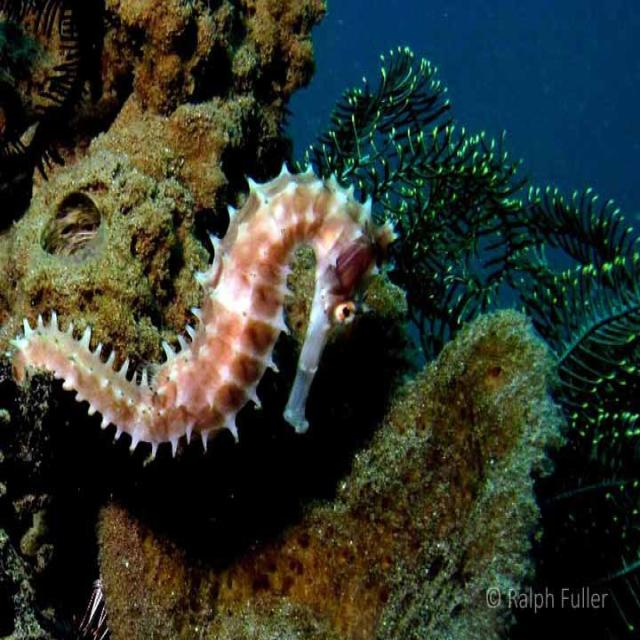seahorse: (12, 166, 395, 456)
